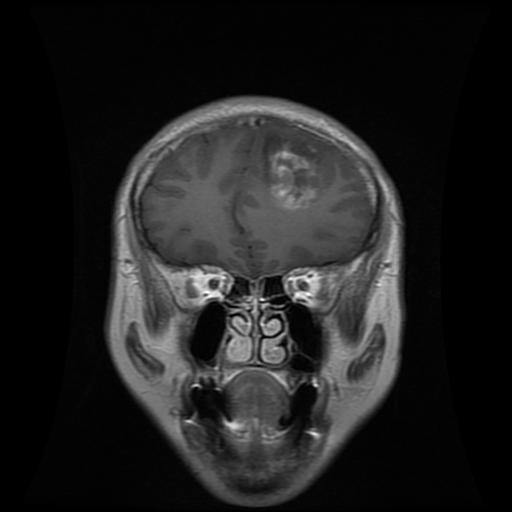Gliomia_tumour: (261, 128, 326, 209)
